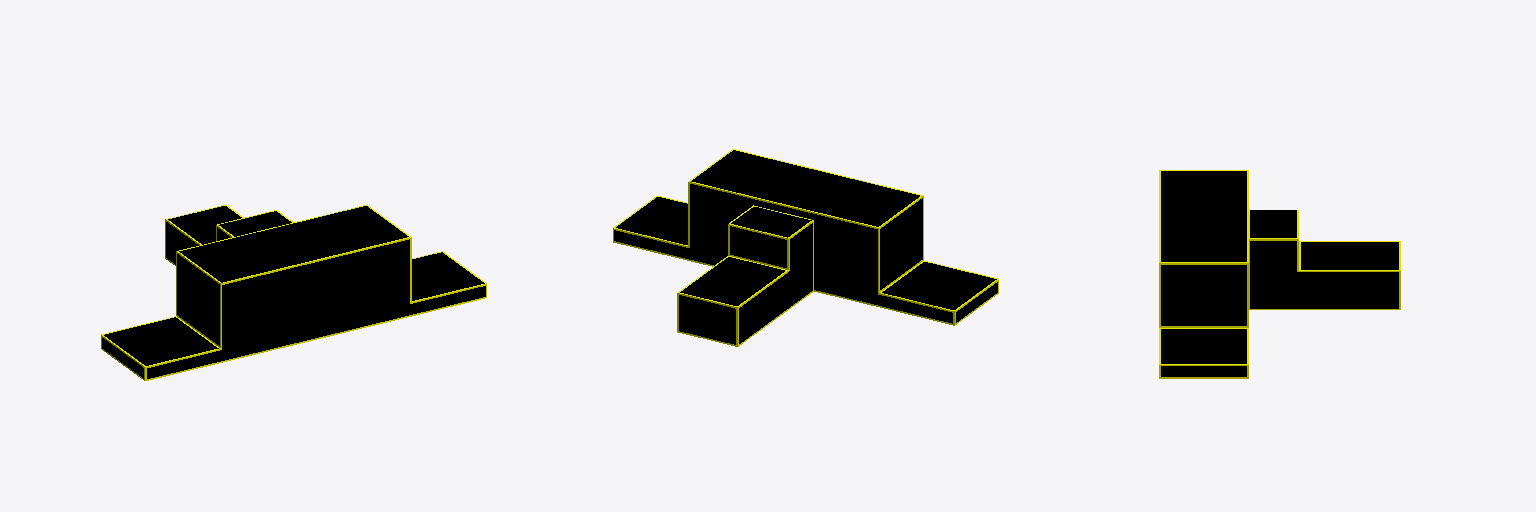
The picture shows the model from 3 angles: view 1: azimuth 30°, elevation 25°; view 2: azimuth 150°, elevation 25°; view 3: azimuth 270°, elevation 25°; orthographic projection.
Parts seen in each view (by area): view 1: cube; view 2: cube; view 3: cube.
Part boxes in pixels (bbox=[...]): cube: bbox=[101, 205, 486, 380]; cube: bbox=[613, 149, 998, 346]; cube: bbox=[1159, 170, 1400, 378].
Bounding box in the file's own units: 14.12 × 3.12 × 8.62.
Materials: 5 (5 with a texture image).